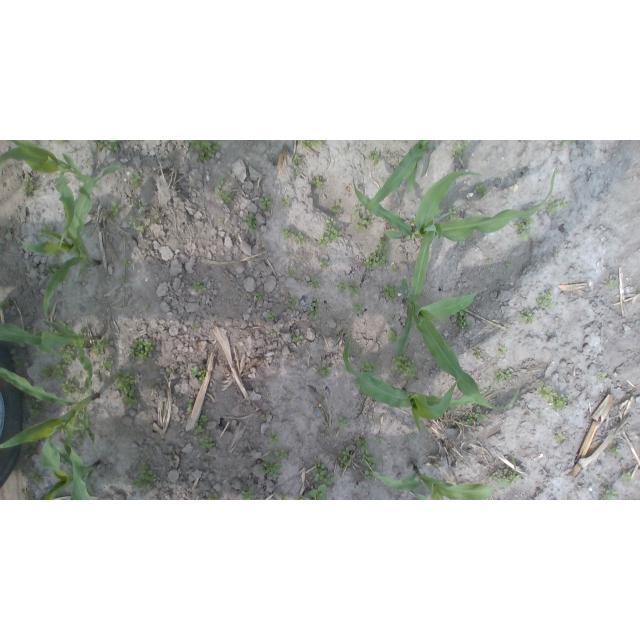Maize: (352, 171, 557, 305), (395, 229, 518, 410), (22, 164, 121, 336), (344, 336, 520, 432), (0, 366, 98, 481), (0, 141, 98, 250), (0, 320, 98, 401), (365, 458, 517, 500), (38, 424, 102, 501), (368, 140, 428, 208)
Weeds: (535, 379, 570, 411), (363, 235, 391, 269), (187, 141, 222, 164), (132, 460, 159, 489), (126, 338, 156, 363), (317, 215, 342, 245), (488, 468, 521, 490), (390, 352, 417, 378), (313, 459, 338, 487), (112, 371, 136, 398), (352, 204, 375, 232), (40, 363, 69, 383), (513, 217, 535, 242), (26, 396, 47, 419), (360, 454, 377, 480), (337, 446, 356, 468), (467, 407, 490, 425), (452, 307, 470, 329), (545, 198, 568, 215), (259, 461, 282, 478), (91, 336, 110, 356), (537, 291, 556, 311), (58, 343, 75, 365), (243, 211, 260, 233), (382, 282, 401, 300), (452, 140, 469, 160), (194, 415, 211, 434), (61, 381, 84, 395), (356, 437, 373, 455), (189, 365, 205, 384), (308, 484, 327, 500), (109, 200, 124, 220), (20, 178, 34, 199), (128, 214, 144, 232), (24, 440, 38, 460), (387, 328, 400, 349), (258, 195, 275, 211), (367, 148, 382, 166), (309, 299, 322, 319), (446, 204, 462, 220), (360, 361, 378, 375), (121, 396, 140, 409), (129, 172, 144, 188), (200, 437, 216, 452), (495, 368, 512, 382), (45, 262, 63, 274), (103, 140, 121, 152), (282, 227, 297, 241), (475, 183, 489, 198), (521, 309, 535, 324), (274, 448, 289, 462), (601, 489, 620, 500), (40, 222, 53, 238), (267, 433, 281, 447), (348, 281, 361, 296), (241, 488, 257, 500), (294, 232, 308, 245), (215, 176, 224, 196), (354, 379, 366, 394), (1, 296, 16, 308), (74, 407, 82, 429), (300, 140, 322, 148), (194, 280, 207, 293), (100, 360, 115, 371), (310, 176, 322, 189), (25, 323, 39, 334), (331, 200, 342, 214), (307, 277, 321, 288), (337, 416, 349, 428), (336, 280, 347, 293), (321, 364, 332, 377), (606, 278, 617, 290), (28, 470, 40, 481), (223, 191, 233, 204), (620, 471, 633, 481), (288, 295, 297, 309), (595, 372, 606, 383), (292, 332, 304, 342), (353, 304, 366, 313), (473, 348, 482, 360), (281, 195, 291, 205), (252, 291, 262, 301), (72, 434, 81, 445), (555, 432, 566, 441), (187, 399, 194, 413), (319, 260, 329, 269), (288, 267, 297, 277), (499, 347, 508, 357), (57, 320, 68, 328), (122, 259, 133, 267), (610, 447, 621, 455), (169, 450, 176, 462), (292, 155, 300, 165), (209, 493, 220, 500), (268, 312, 277, 320), (80, 328, 88, 336), (504, 263, 513, 269), (295, 496, 305, 501), (411, 217, 418, 224), (169, 368, 176, 375), (559, 140, 565, 148), (293, 171, 300, 177), (281, 494, 288, 500), (377, 437, 383, 444), (537, 413, 543, 420), (57, 140, 66, 144), (567, 140, 574, 145), (194, 324, 201, 329), (407, 380, 411, 388), (392, 316, 397, 321), (260, 415, 264, 420), (324, 432, 328, 436)
